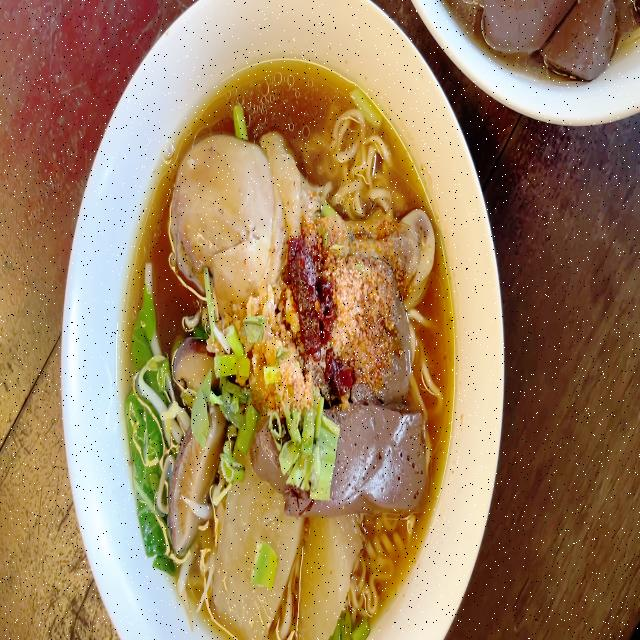boiled_chicken_blood_jelly: (452, 0, 640, 80), (327, 397, 428, 506)
chicken_drumstick: (171, 134, 433, 306)
daikon_radish: (222, 498, 359, 627)
noodle: (134, 73, 443, 640)
